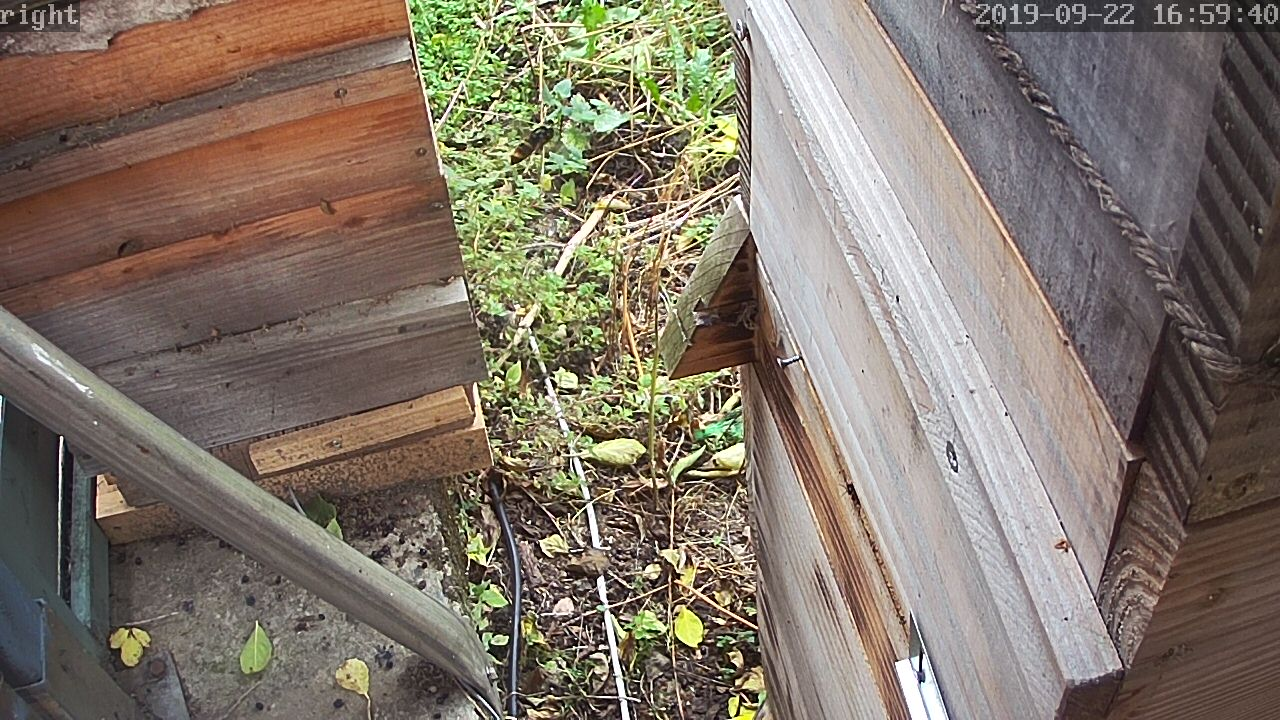hornet: (510, 120, 552, 172)
